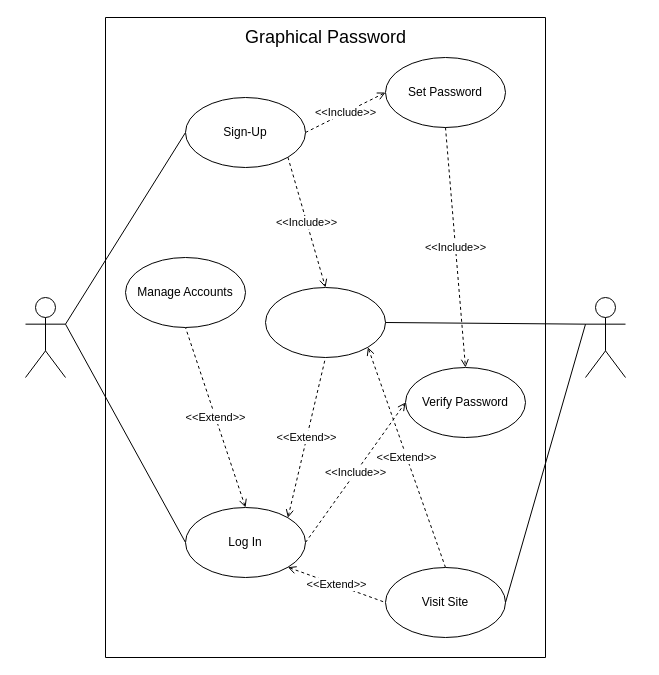
Some shapes in this 659 by 675 pixel diagram are drawn without their labels. The shapes that lost their labels are listed below. From the top down, each one's centre as x and y in pixels, then its label:
At pixel 45 337: "Webmaster".
At pixel 325 322: "Link Website".
At pixel 605 337: "Target Website".
